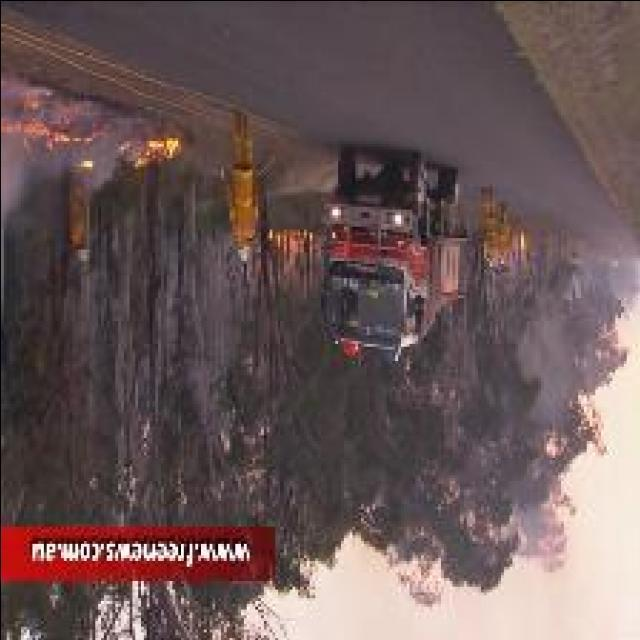Fire: (144, 137, 182, 160)
